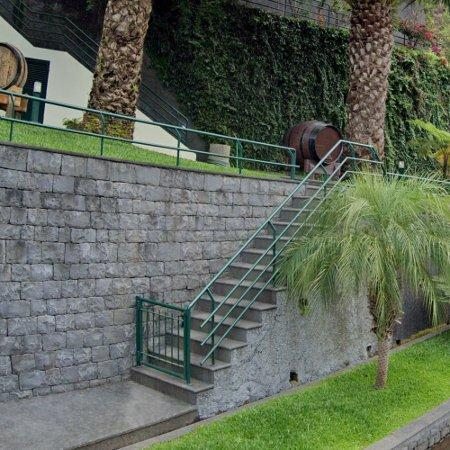stairs: (136, 141, 384, 386)
